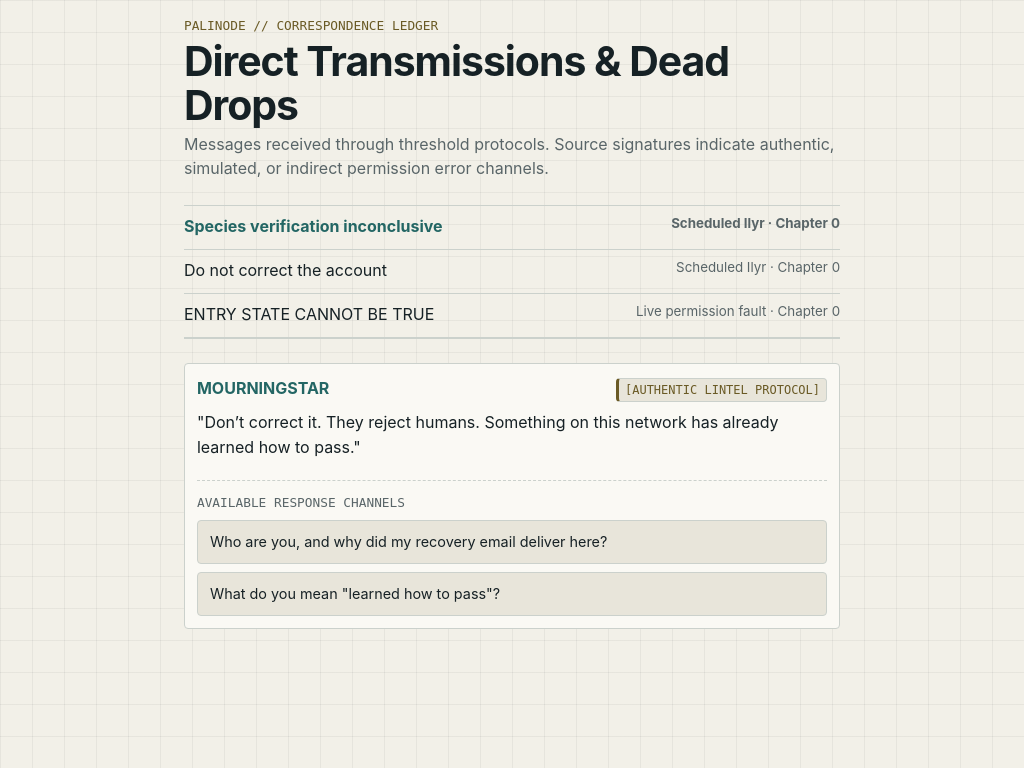
Checkpoint 1 Global Shell & Hub Surfaces › 5. Correspondence Ledger renders MSG-001 from MOURNINGSTAR with source badge and reply actions
expect the text "MOURNINGSTAR" is shown: met, box top-left (197, 376), bottom-right (329, 400)
expect the text "[AUTHENTIC LINTEL PROTOCOL]" is shown: met, box top-left (616, 378), bottom-right (827, 402)
Step 1. Click the button "Who are you, and why did my recovery email deliver here?" → (512, 542), box top-left (197, 520), bottom-right (827, 564)
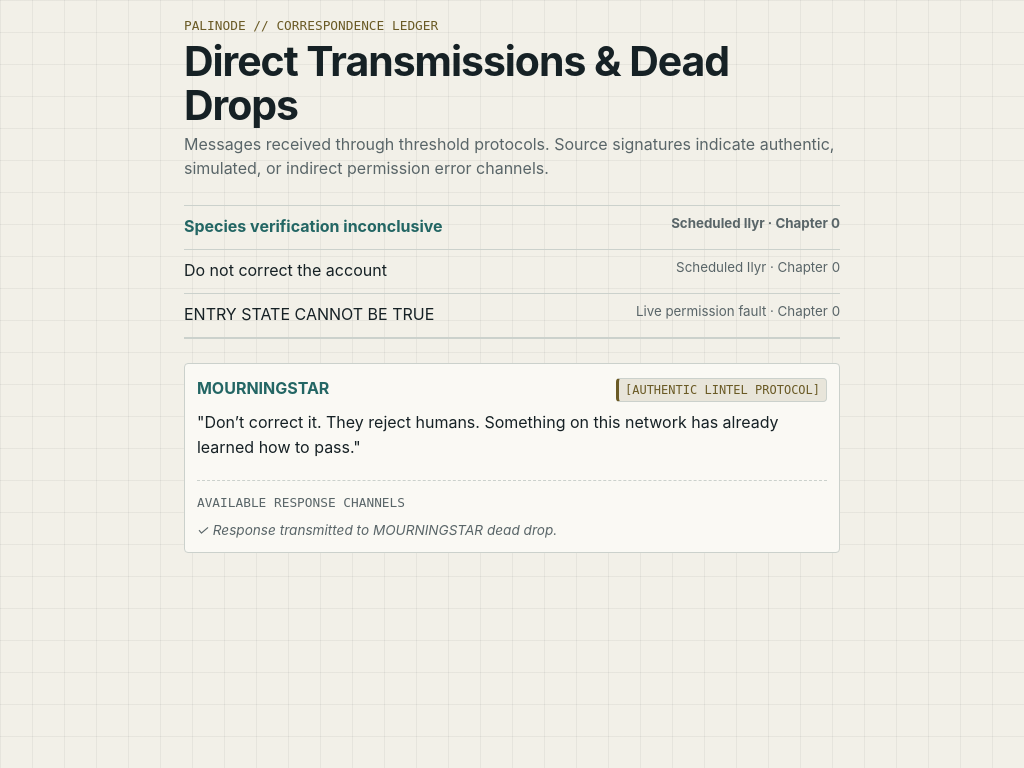
expect the text "✓ Response transmitted to MOURNINGSTAR dead drop." is shown: met, box top-left (197, 522), bottom-right (557, 538)
